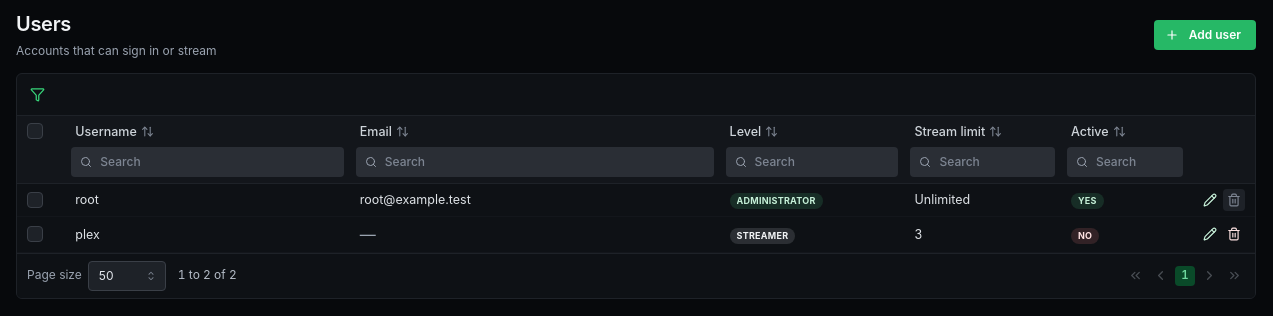
Users page › reports how many rows are selected
Expected: the text "root" is shown, [65, 184, 350, 217]
Click the checkbox named "Select row 1".
click(35, 200)  # box [27, 192, 43, 208]
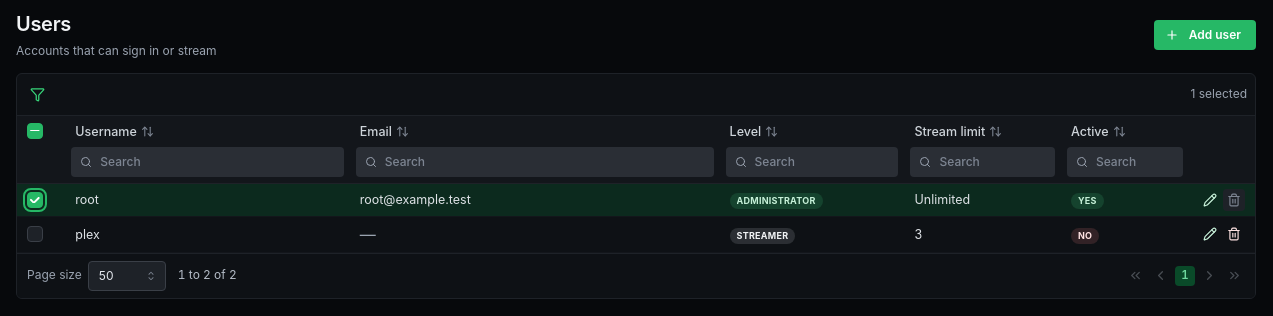
Expected: the text "1 selected" is shown, [1190, 86, 1247, 102]
